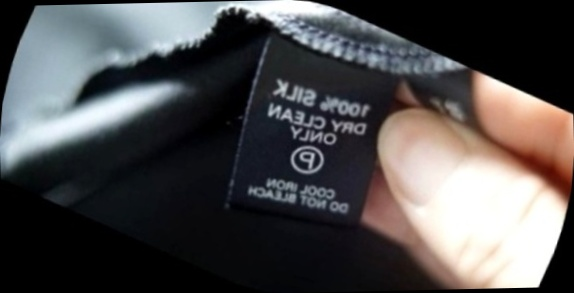dry_clean_any_solvent_except_trichloroethylene: (278, 131, 335, 186)
